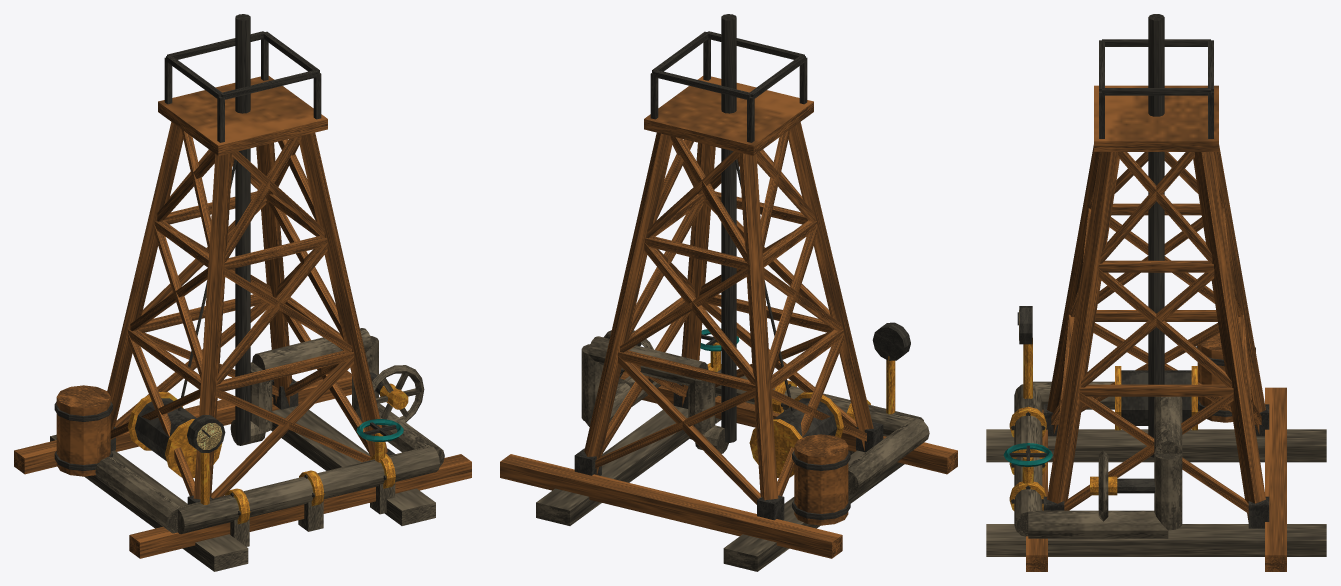
File: derrick-01.glb
3 views of the same model, side by side, from view 1: azimuth 30°, elevation 25°; view 2: azimuth 150°, elevation 25°; view 3: azimuth 270°, elevation 25° (orthographic). The views are drawn at different scales.
Visible parts, largest first — view 1: derrick-01; view 2: derrick-01; view 3: derrick-01.
Part boxes in pixels (bbox=[...]): derrick-01: bbox=[14, 14, 471, 571]; derrick-01: bbox=[500, 14, 957, 571]; derrick-01: bbox=[986, 14, 1326, 571].
Bounding box in the file's own units: 5.38 × 7.24 × 4.61.
Materials: 1 (1 with a texture image).
